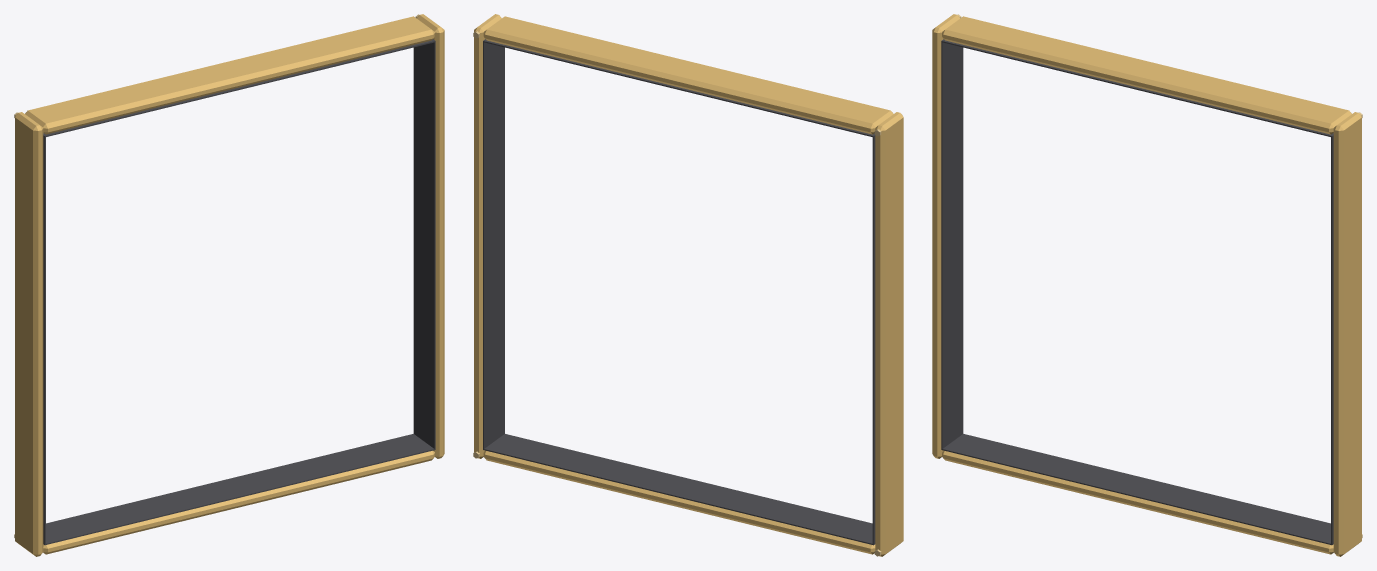
The model's file is Bezel_2x2.fbx.
The picture shows the model from 3 angles, left to right: view 1: azimuth 30°, elevation 25°; view 2: azimuth 150°, elevation 25°; view 3: azimuth 330°, elevation 25°; orthographic projection.
Visible parts, largest first — view 1: Bezel_2x2; view 2: Bezel_2x2; view 3: Bezel_2x2.
Boxes of the visible parts, bbox=[...] form: Bezel_2x2: bbox=[14, 14, 444, 556]; Bezel_2x2: bbox=[473, 14, 903, 556]; Bezel_2x2: bbox=[932, 14, 1362, 556].
Size of the model in its own units: 2.16 by 2.16 by 0.211.
